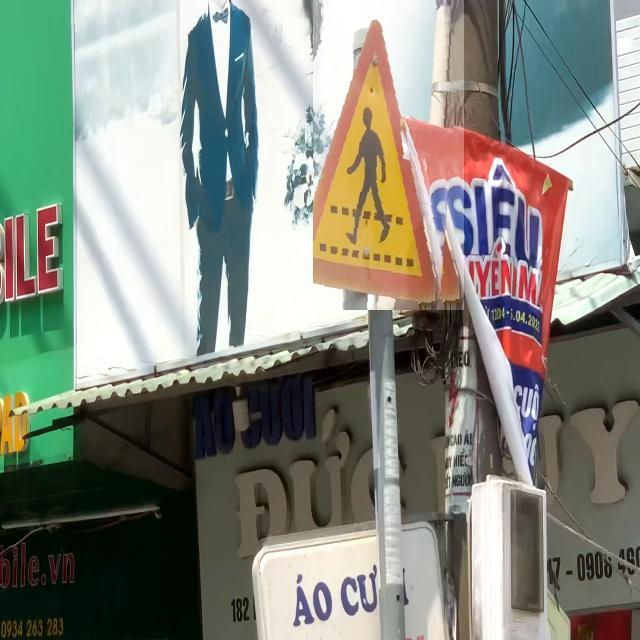W-224: (313, 0, 464, 310)
